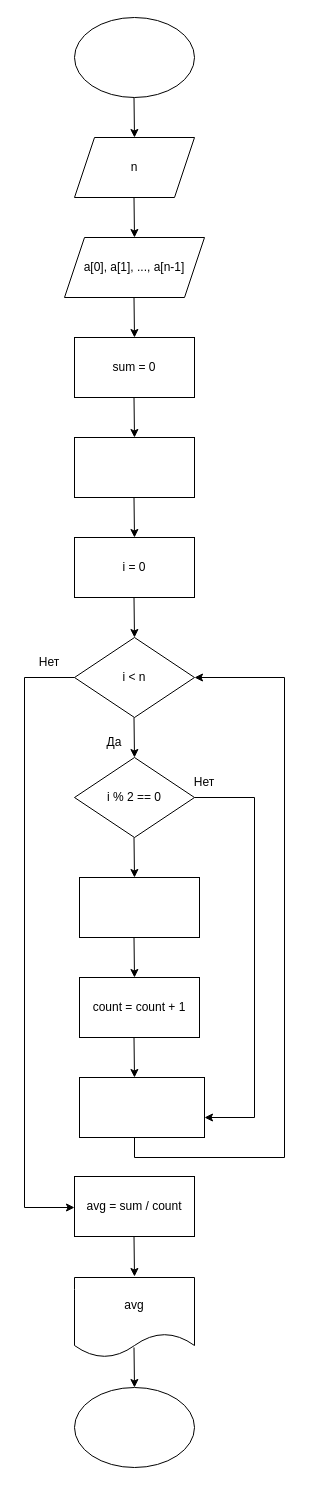
This 310x1485 diagram has some shape labels left out. Each missing label, with the centre of its shape:
"count = 0" belongs at (134,467).
"i = i + 1" belongs at (141,1107).
"sum = sum + a[i]" belongs at (139,907).
"конец" belongs at (134,1427).
"начало" belongs at (134,57).
